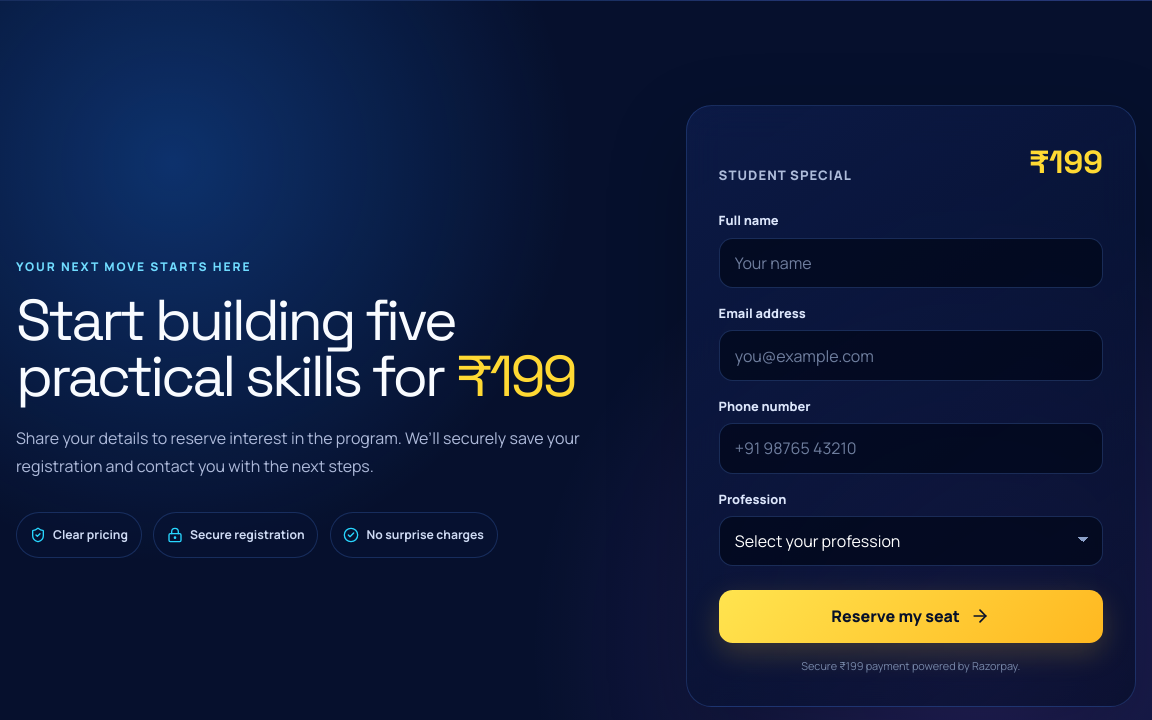
RegistrationSection › shows field-specific errors and no success state for an empty submission
Step 1. Click the button "Reserve my seat" → (911, 616), box [719,590,1103,643]
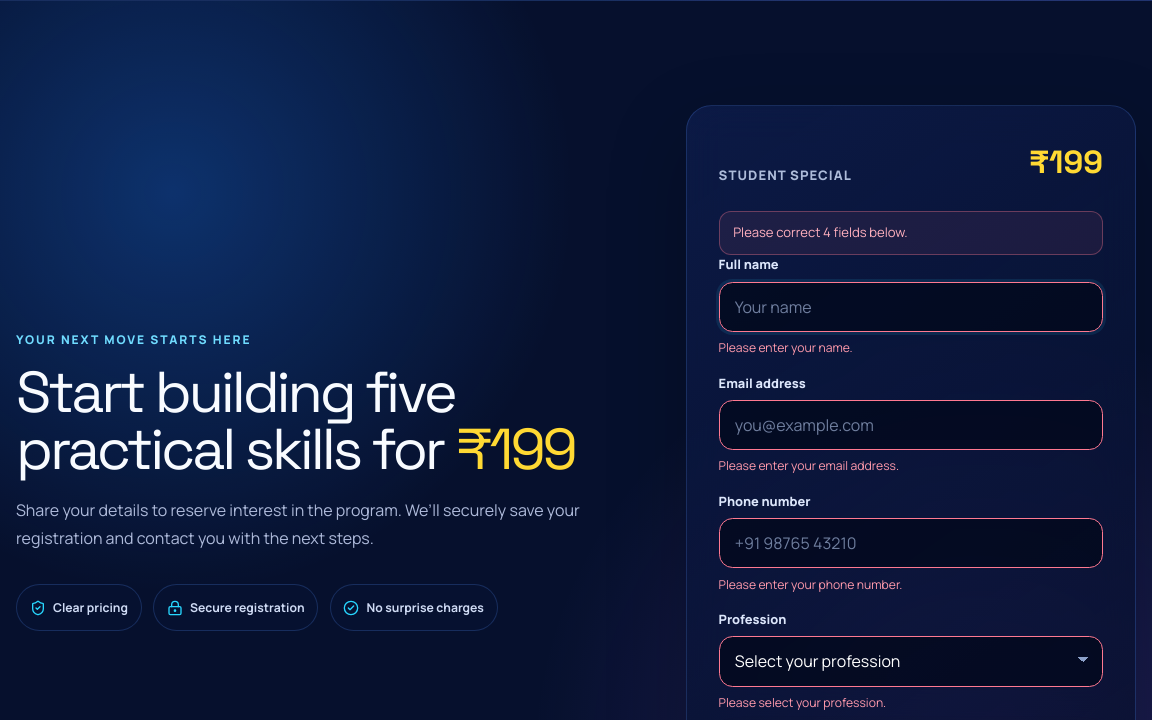
Expected: the text "Please enter your name." is shown, [719,339,853,356]
Expected: the text "Please enter your email address." is shown, [719,458,899,474]
Expected: the text "Please enter your phone number." is shown, [719,576,902,593]
